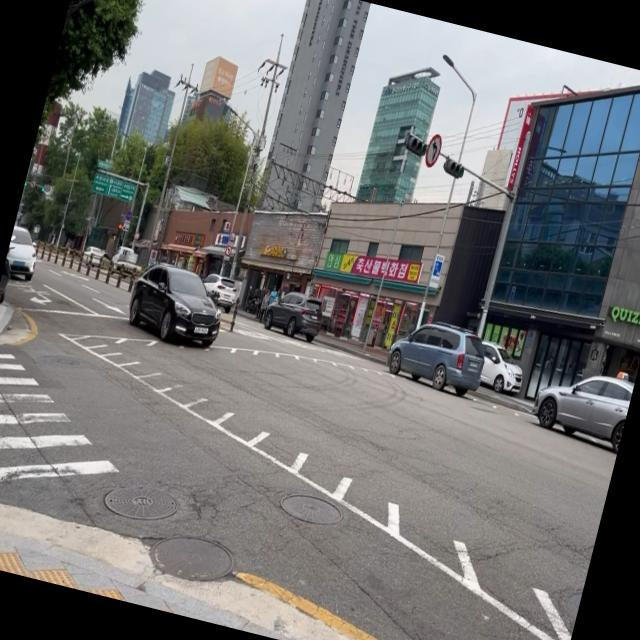building: (451, 44, 640, 423), (252, 0, 370, 224), (95, 0, 207, 199), (352, 55, 446, 216)
car: (376, 291, 512, 421), (121, 255, 231, 354), (526, 357, 634, 452), (260, 284, 328, 344), (1, 224, 44, 282), (195, 270, 239, 314), (78, 242, 107, 270)
